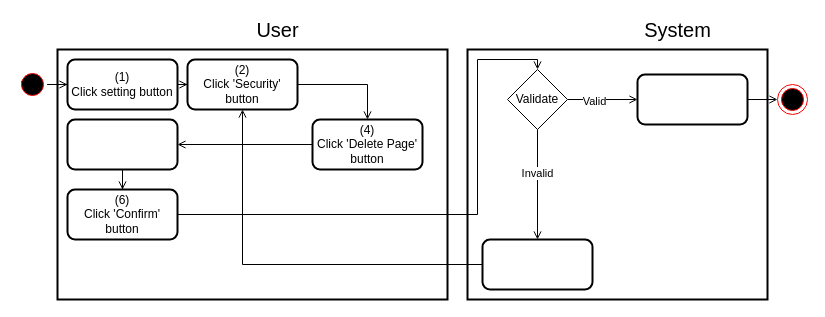
Some shapes in this 825 by 317 pixel diagram are drawn without their labels. Here are the shapes that lost their labels. From the top down, the centre of each, then its label:
At [692,99]: "(7.1) Delete Page".
At [122,144]: "(5) Fill current password text box".
At [537,264]: "(7.2) Display Error message".
